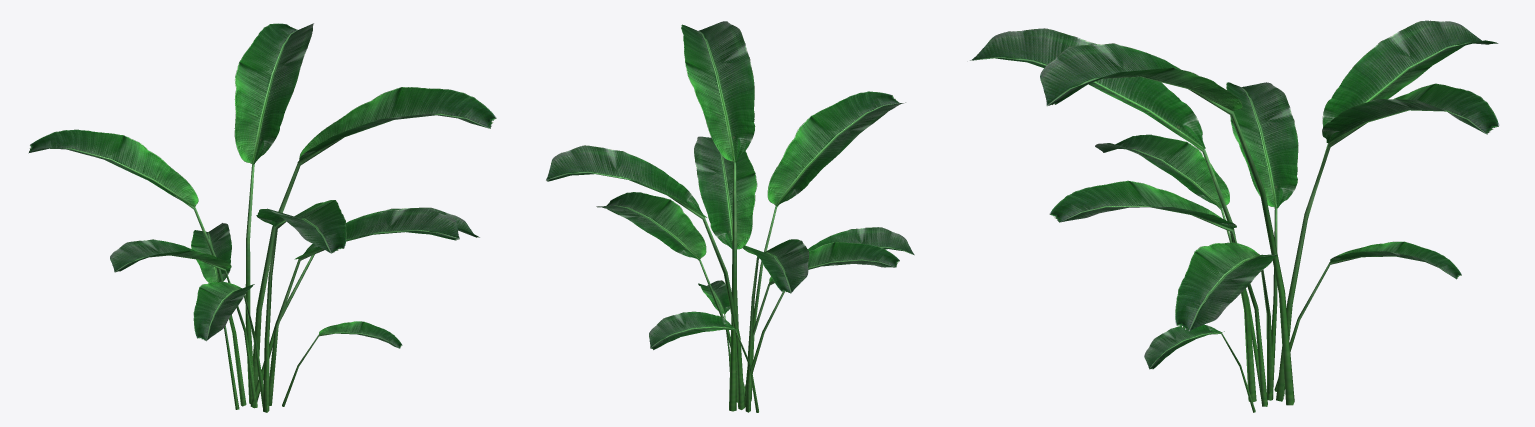
The model's file is m_grass01.fbx.
3 renders of one model, left to right at view 1: azimuth 30°, elevation 25°; view 2: azimuth 150°, elevation 25°; view 3: azimuth 270°, elevation 25°, orthographic. The views are drawn at different scales.
Visible parts, largest first — view 1: m_grass01; view 2: m_grass01; view 3: m_grass01.
Part boxes in pixels (<box>): m_grass01: <box>28,23,496,412</box>; m_grass01: <box>546,21,914,412</box>; m_grass01: <box>970,20,1499,412</box>.
Size of the model in its own units: 3.47 by 3.07 by 3.82.
